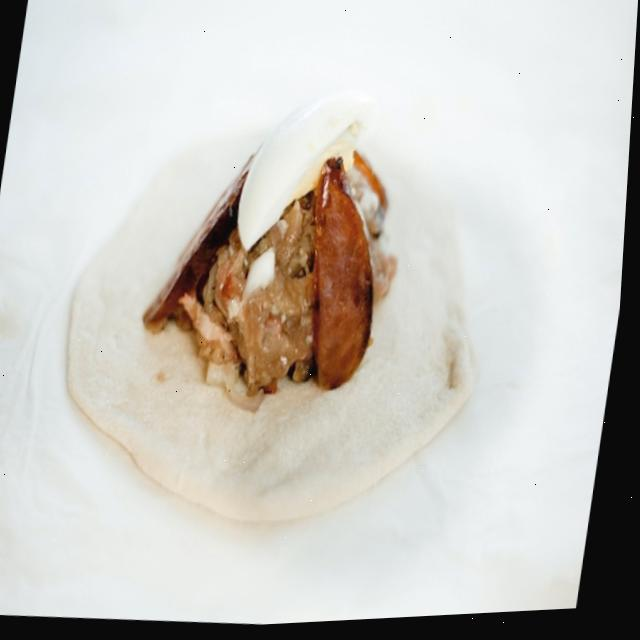带馅早点: (52, 69, 506, 532)
